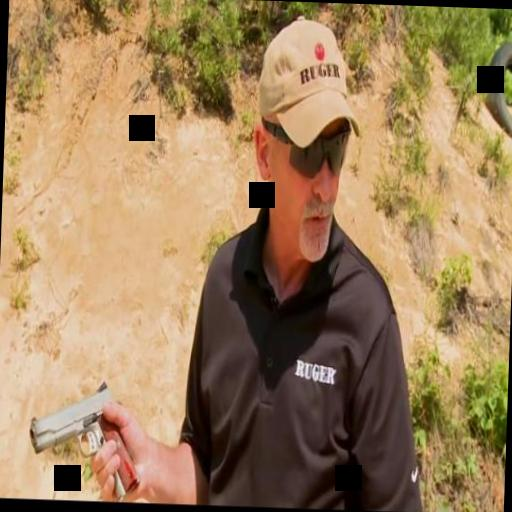Handgun: (26, 378, 144, 498)
